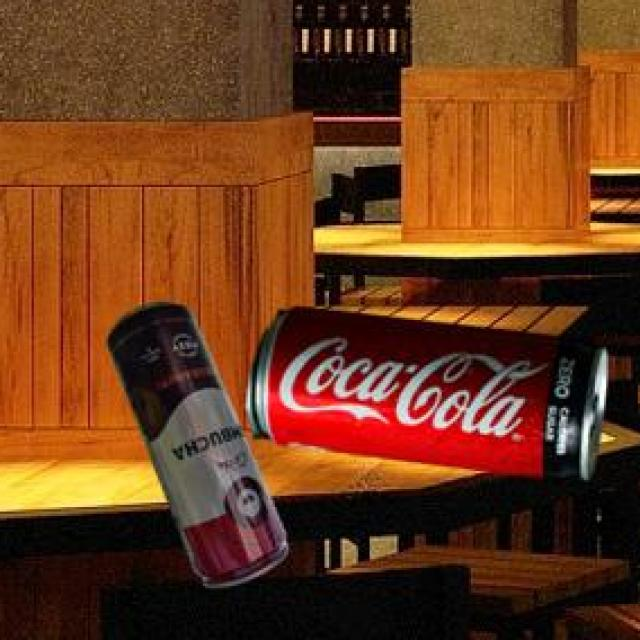logam: (245, 303, 605, 477), (105, 299, 285, 585)
